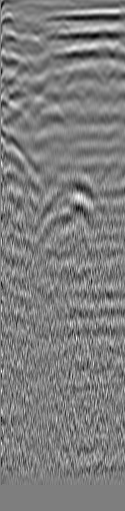상수: (18, 16, 38, 36)
